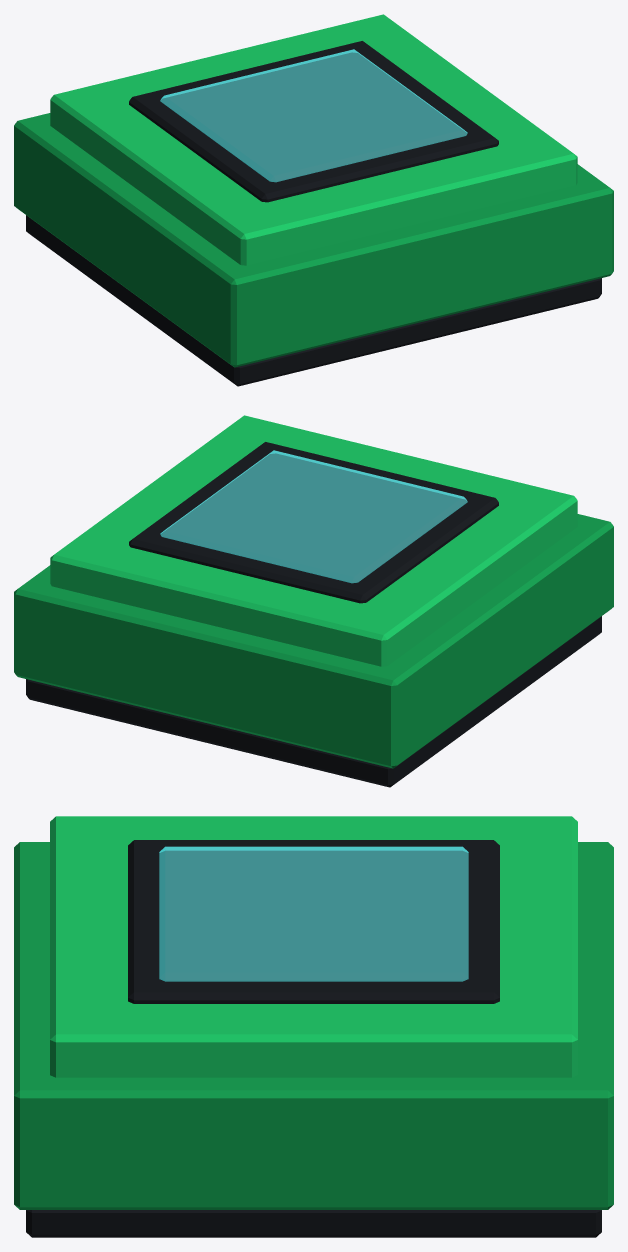
File: sellpad-tier.glb
3 views of the same model, one above another, from view 1: azimuth 30°, elevation 25°; view 2: azimuth 150°, elevation 25°; view 3: azimuth 270°, elevation 25° (orthographic). The views are drawn at different scales.
Visible parts, largest first — view 1: sellpad-tier; view 2: sellpad-tier; view 3: sellpad-tier.
Boxes of the visible parts, x1,y1,x2,y2 form: sellpad-tier: (14,14,613,386); sellpad-tier: (14,415,613,787); sellpad-tier: (14,816,613,1237).
Bounding box in the file's own units: 1 × 0.384 × 1.
